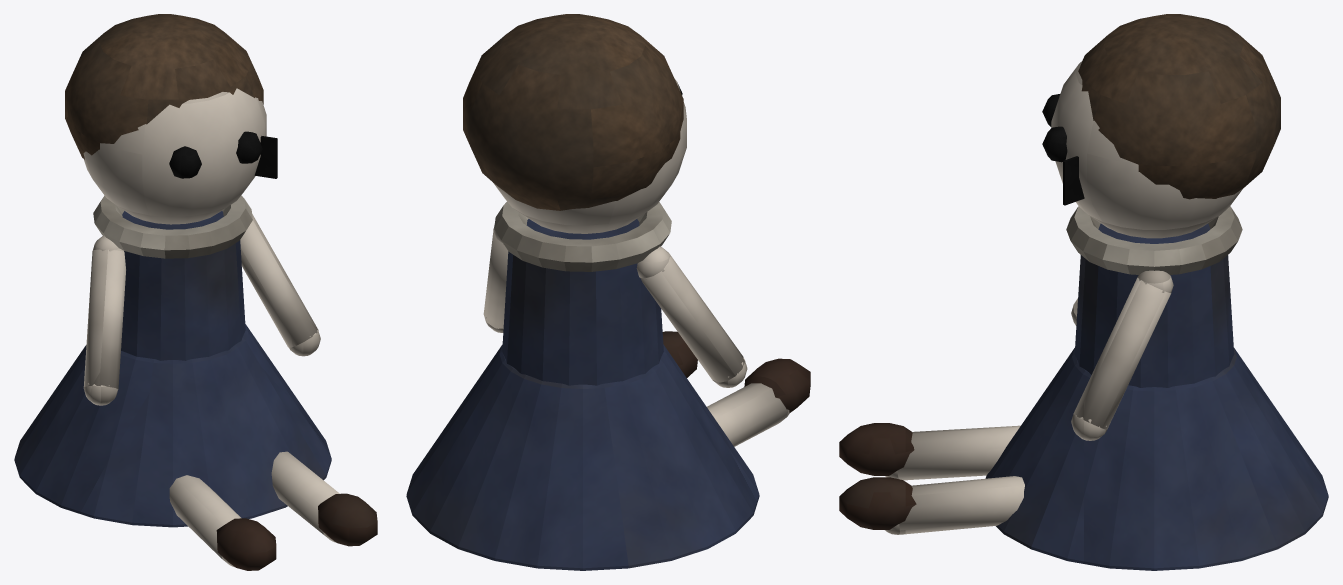
Rendered from T02_porcelain_doll_sitting_v3.glb.
The picture shows the model from 3 angles, left to right: view 1: azimuth 30°, elevation 25°; view 2: azimuth 150°, elevation 25°; view 3: azimuth 270°, elevation 25°; orthographic projection. The views are drawn at different scales.
Parts seen in each view (by area): view 1: T02_porcelain_doll_sitting_v3; view 2: T02_porcelain_doll_sitting_v3; view 3: T02_porcelain_doll_sitting_v3.
Boxes of the visible parts, box(x1,y1,x2,y2) form: T02_porcelain_doll_sitting_v3: box(14, 14, 377, 570); T02_porcelain_doll_sitting_v3: box(406, 14, 810, 570); T02_porcelain_doll_sitting_v3: box(839, 14, 1328, 570).
Size of the model in its own units: 0.2626 by 0.4 by 0.3688.
6 materials, 6 textured.
